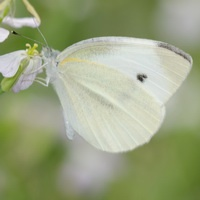insect: (0, 36, 192, 151)
